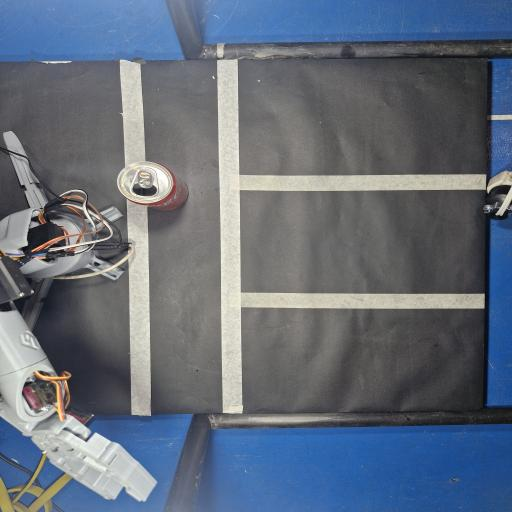lata: (117, 162, 188, 210)
